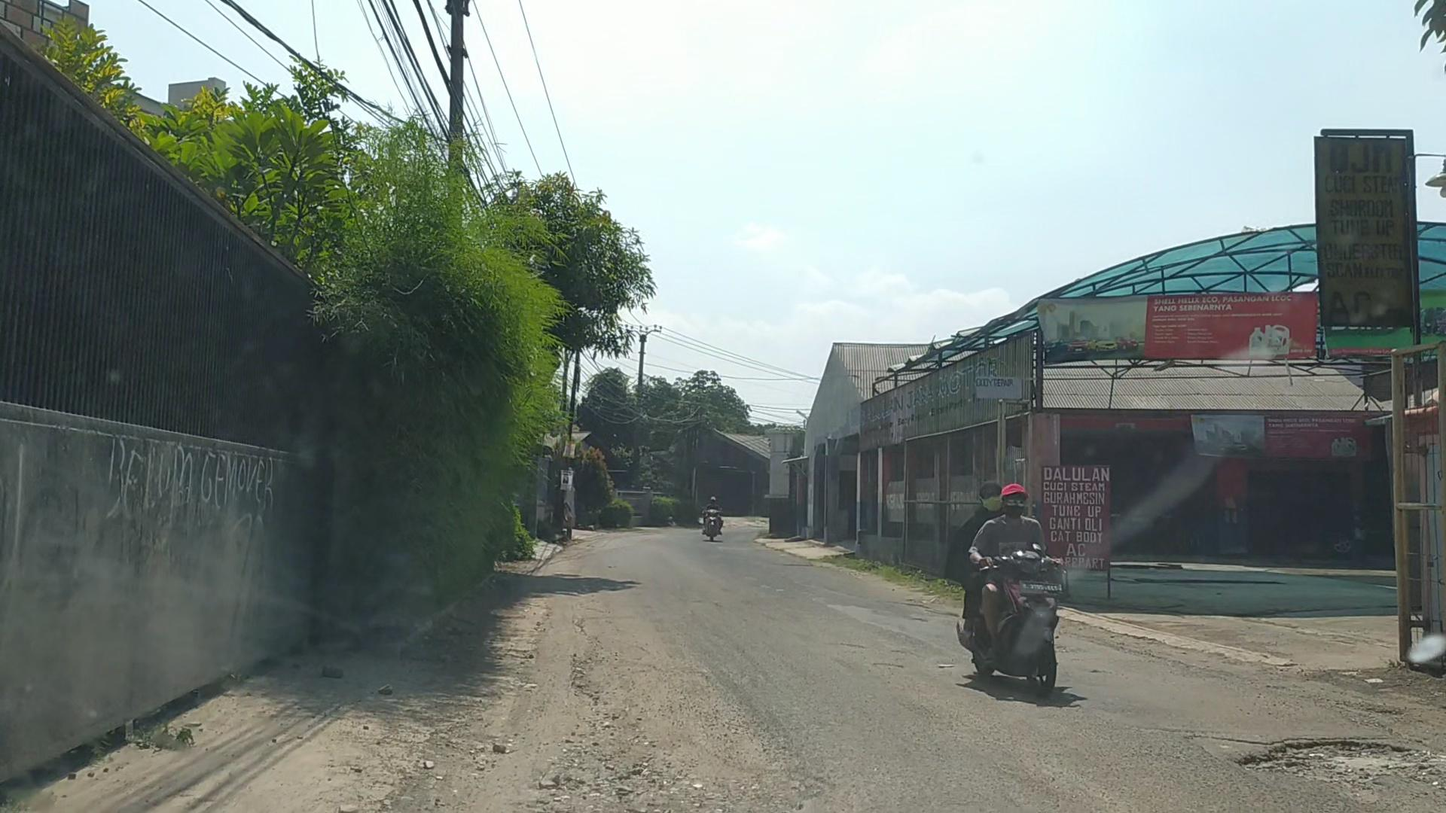pothole: (1227, 741, 1431, 788)
